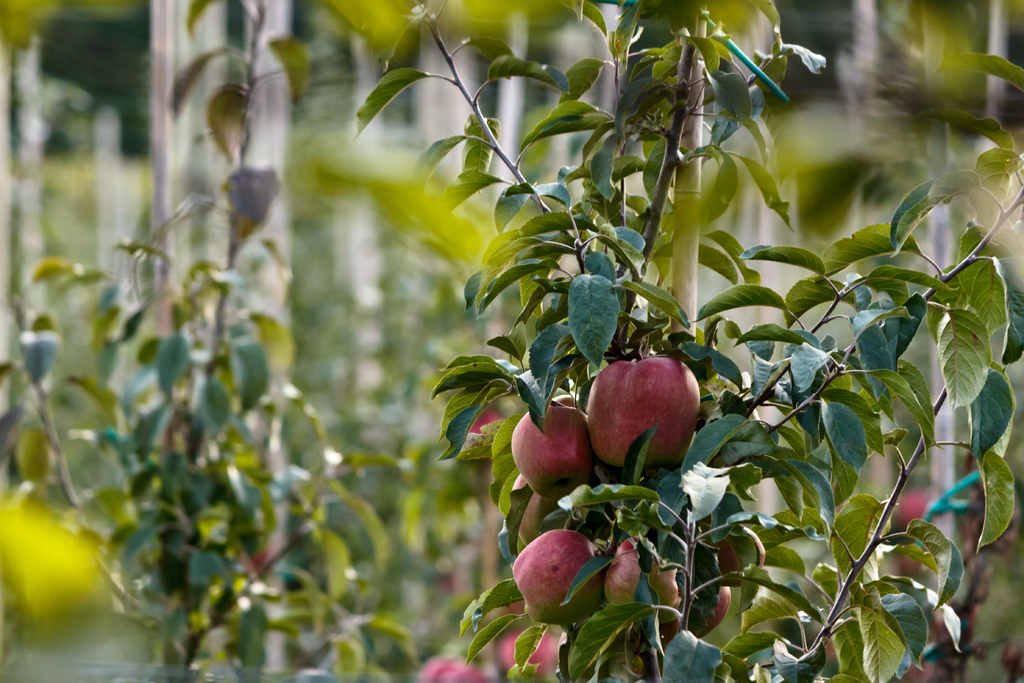Apple: (410, 390, 764, 682), (586, 353, 697, 465)
